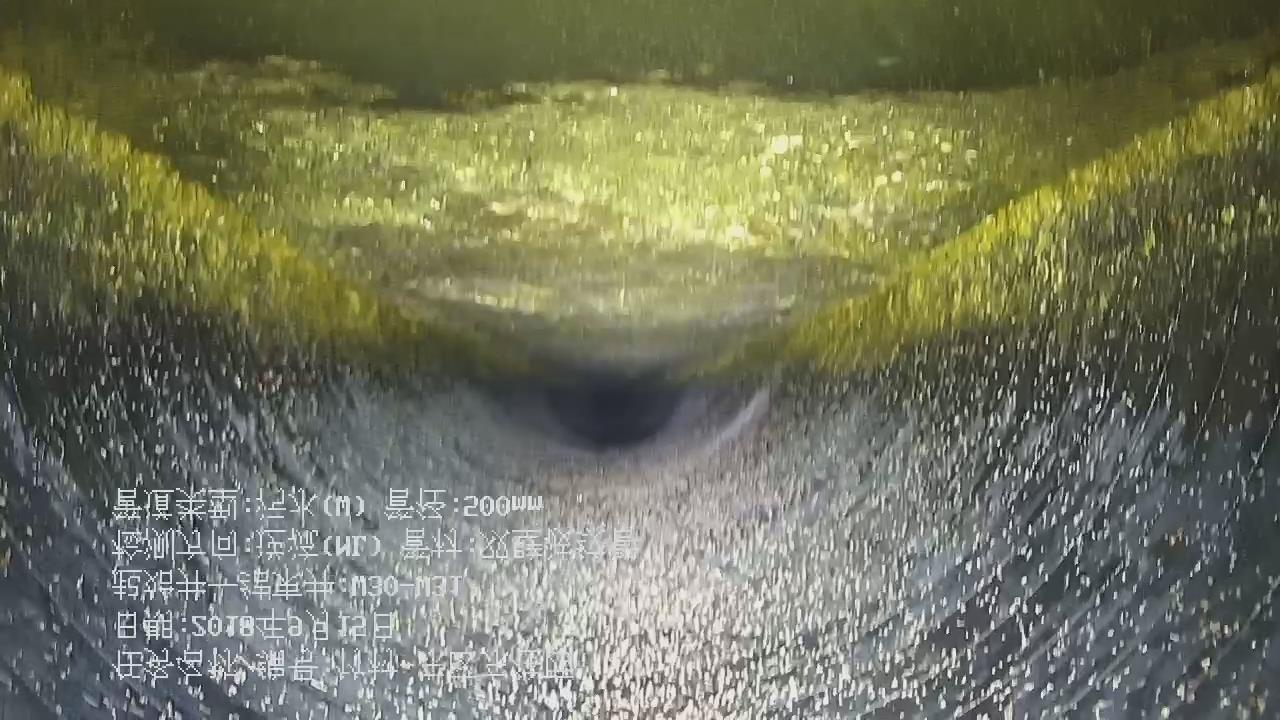FZ: (166, 50, 1242, 366)
